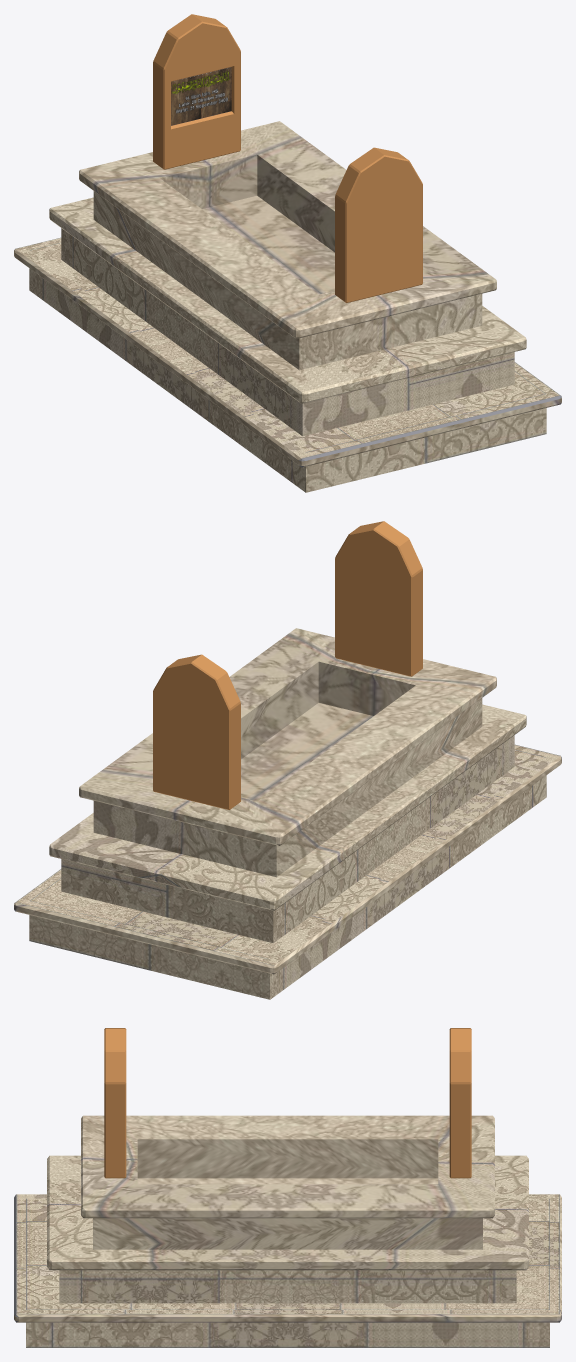
Rendered from kuburan_islam2.obj.
3 renders of one model, top to bottom at view 1: azimuth 30°, elevation 25°; view 2: azimuth 150°, elevation 25°; view 3: azimuth 270°, elevation 25°, orthographic. The views are drawn at different scales.
Parts seen in each view (by area): view 1: kuburan_islam_Cube; view 2: kuburan_islam_Cube; view 3: kuburan_islam_Cube.
Boxes of the visible parts, x1,y1,x2,y2 form: kuburan_islam_Cube: (14, 14, 561, 492); kuburan_islam_Cube: (14, 521, 561, 999); kuburan_islam_Cube: (14, 1028, 561, 1347).
Bounding box in the file's own units: 4.41 × 4.45 × 8.4.
